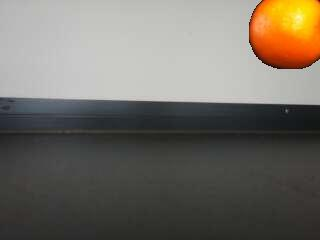Orange: (249, 0, 320, 70)
